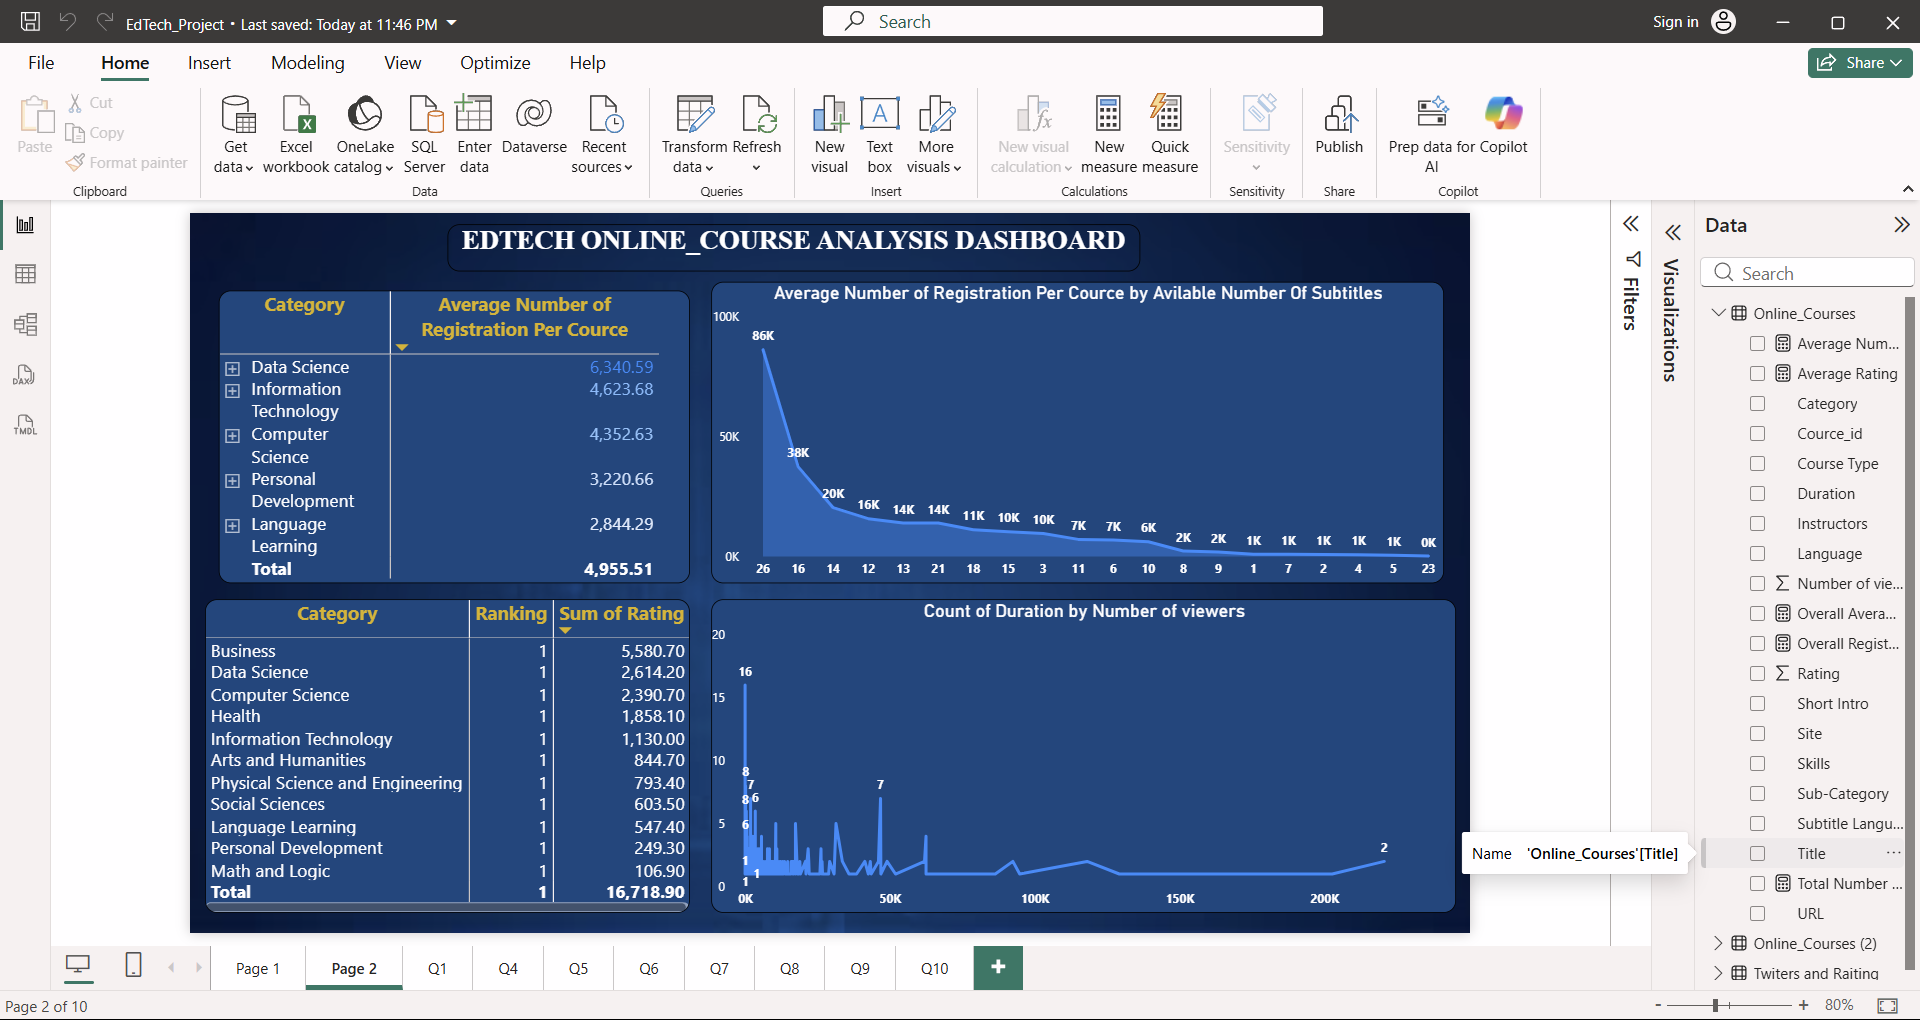

Layout of this report page (visuals, bound fields, positions):
{"tool":"powerbi","page":{"name":"Page 2","canvas":[1280,720],"ordinal":1},"visuals":[{"type":"textbox","box":[257.5,11.2,692.5,47.5],"z":0},{"type":"pivotTable","fields":{"Values":["Online_Courses.Average Number of Registration Per Cource"],"Rows":["Online_Courses.Category","Online_Courses.Language"]},"box":[28.8,77.5,471.2,292.5],"z":1000},{"type":"areaChart","fields":{"Category":["Online_Courses (2).Avilable Number Of Subtitles"],"Y":["Online_Courses.Average Number of Registration Per Cource"]},"box":[521.2,68.8,732.5,301.2],"z":2000},{"type":"lineChart","fields":{"Y":["CountNonNull(Online_Courses.Duration)"],"Category":["Online_Courses.Number of viewers"]},"box":[521.2,386.2,745,313.8],"z":3000},{"type":"pivotTable","fields":{"Rows":["Twiters and Raiting.Category"],"Values":["Twiters and Raiting.Ranking","Sum(Twiters and Raiting.Rating)"]},"box":[15,386.2,485,313.8],"z":4000}]}

Visuals, with their boxes on the page's 1280x720 design canvas (x1, y1, x2, y2). These are canvas units, not pixel positions in the 1920x1020 screenshot, which may show the page scaled, cropped or inside an application window:
textbox: <box>258,11,950,59</box>
pivotTable - Online_Courses.Average Number of Registration Per Cource x Online_Courses.Category: <box>29,78,500,370</box>
areaChart - Online_Courses (2).Avilable Number Of Subtitles x Online_Courses.Average Number of Registration Per Cource: <box>521,69,1254,370</box>
lineChart - CountNonNull(Online_Courses.Duration) x Online_Courses.Number of viewers: <box>521,386,1266,700</box>
pivotTable - Twiters and Raiting.Category x Twiters and Raiting.Ranking: <box>15,386,500,700</box>
